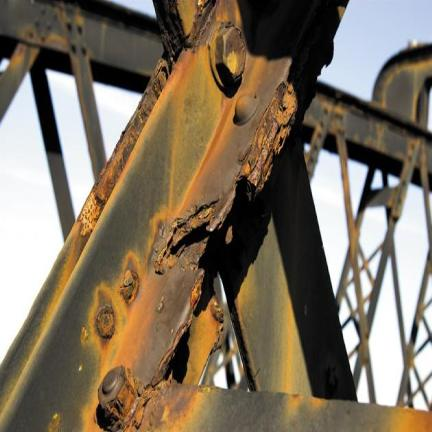karat: (0, 0, 431, 430)
